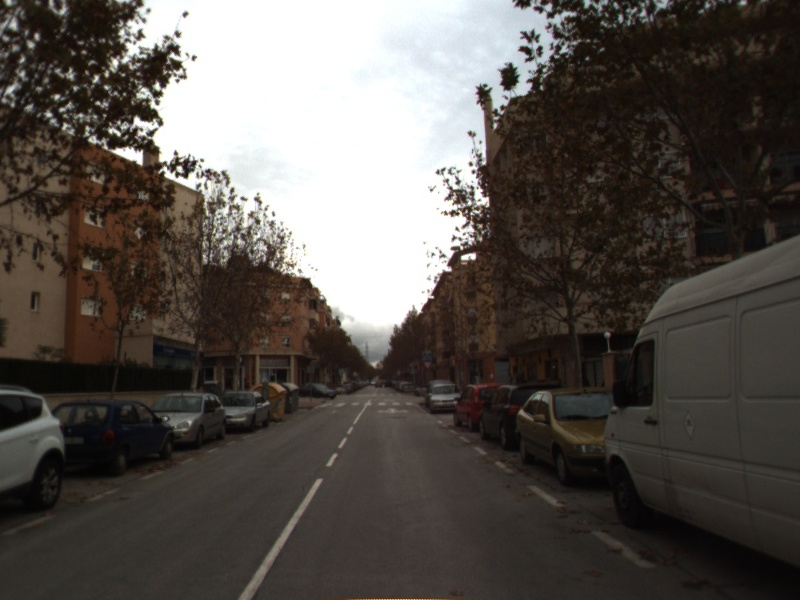STRAIGHT_LEFT_RIGHT: (374, 405, 412, 416)
